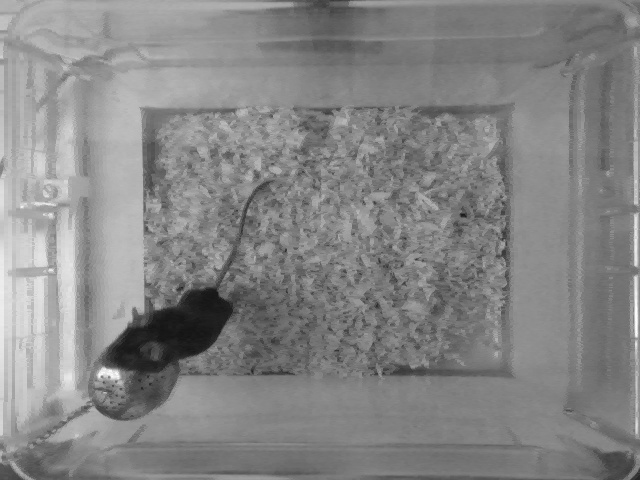mice: (98, 178, 277, 373)
